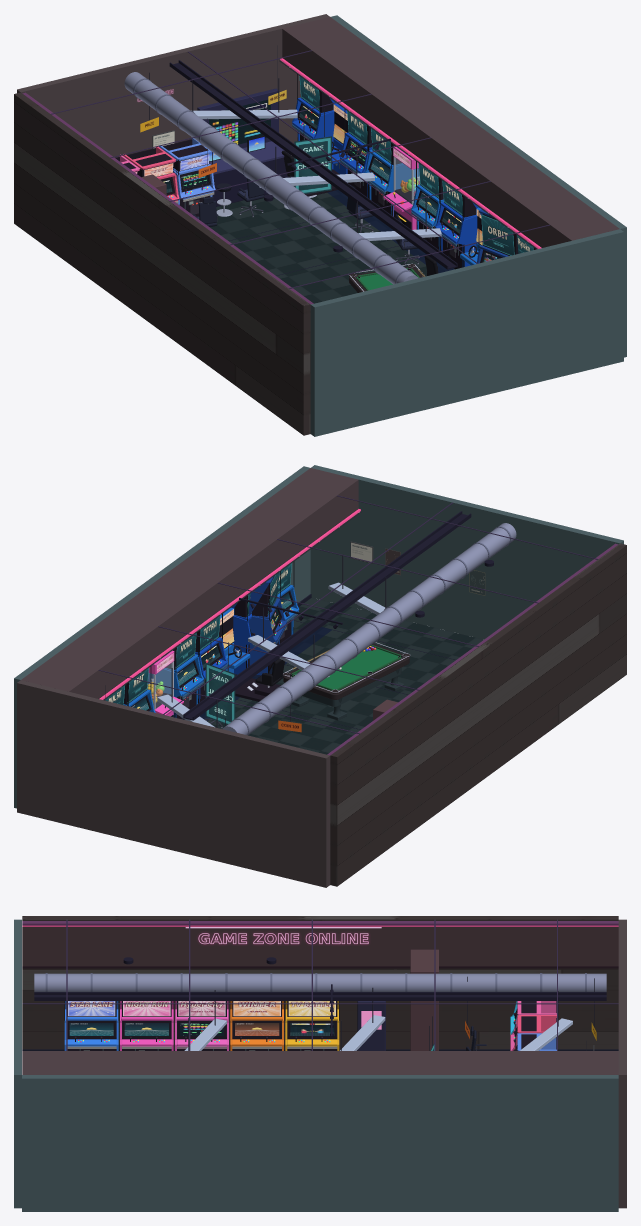
The model's file is game-room-1-night.glb.
3 renders of one model, top to bottom at view 1: azimuth 30°, elevation 25°; view 2: azimuth 150°, elevation 25°; view 3: azimuth 270°, elevation 25°, orthographic. The views are drawn at different scales.
Parts seen in each view (by area): view 1: object 39, object 38, object 44, object 40, object 36, object 202, object 204, object 208, object 45, object 108, object 56, object 102 (+18 smaller); view 2: object 40, object 38, object 39, object 44, object 36, object 202, object 204, object 45, object 208, object 102, object 56, object 172 (+10 smaller); view 3: object 39, object 41, object 38, object 44, object 202, object 204, object 49, spot:rig-seven, object 40, object 45, object 53, object 208 (+20 smaller).
Boxes of the visible parts, x1,y1,x2,y2 form: object 39: (310, 15, 626, 436); object 38: (14, 92, 310, 435); object 44: (282, 17, 619, 247); object 40: (17, 14, 329, 157); object 36: (209, 157, 453, 303); object 202: (124, 72, 418, 284); object 204: (169, 60, 457, 269); object 208: (115, 90, 536, 268); object 45: (51, 50, 549, 288); object 108: (292, 97, 478, 266); object 56: (191, 109, 441, 240); object 102: (364, 150, 481, 265); object 40: (17, 680, 330, 887); object 38: (330, 543, 626, 886); object 39: (14, 465, 623, 808); object 44: (21, 468, 358, 698); object 36: (200, 598, 483, 754); object 202: (222, 523, 516, 734); object 204: (183, 511, 493, 720); object 45: (98, 495, 598, 734); object 208: (105, 576, 291, 718); object 102: (123, 585, 299, 717); object 56: (157, 582, 385, 727); object 172: (294, 648, 399, 690); object 39: (14, 919, 618, 1211); object 41: (22, 926, 618, 965); object 38: (22, 916, 618, 1049); object 44: (22, 1051, 618, 1074); object 202: (34, 973, 606, 991); object 204: (34, 957, 606, 1037); object 49: (22, 921, 618, 925); spot:rig-seven: (285, 1001, 339, 1050); object 40: (618, 919, 626, 1208); object 45: (22, 919, 618, 1050); object 53: (410, 949, 438, 1050); object 208: (67, 1001, 556, 1050).
Size of the model in its own units: 9.4 by 3.6 by 15.
216 materials, 78 textured.
